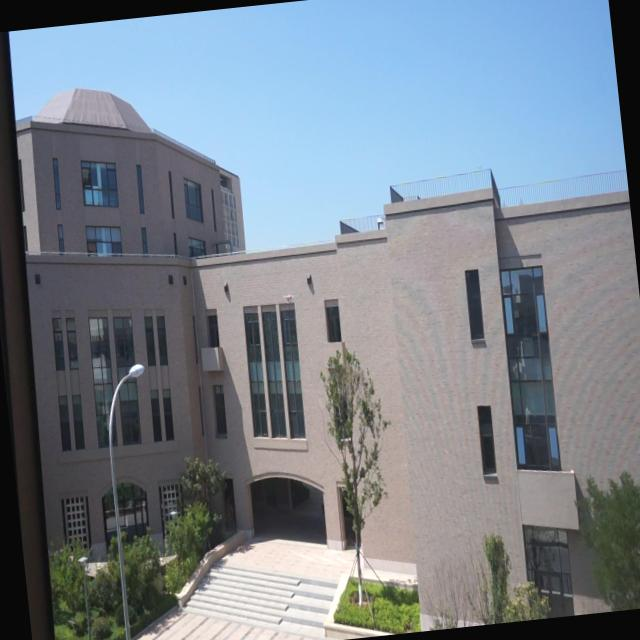drone: (282, 288, 296, 304)
